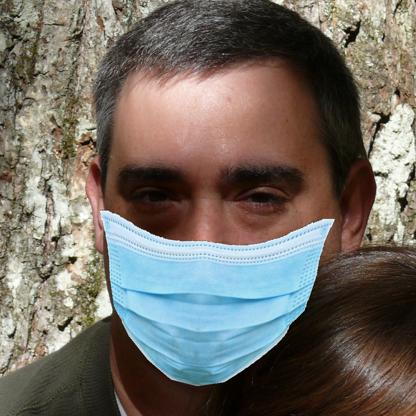mask: (97, 208, 334, 387)
